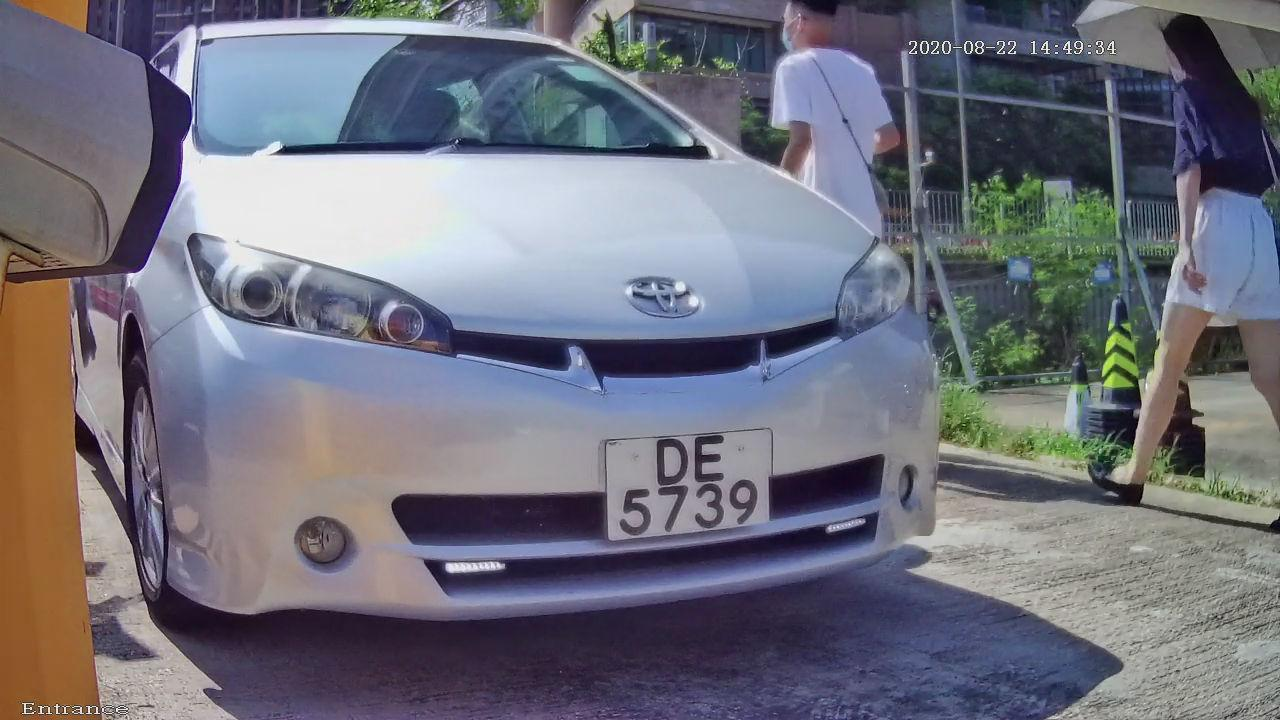Car: (46, 1, 1001, 717)
License Plate: (589, 412, 789, 560)
